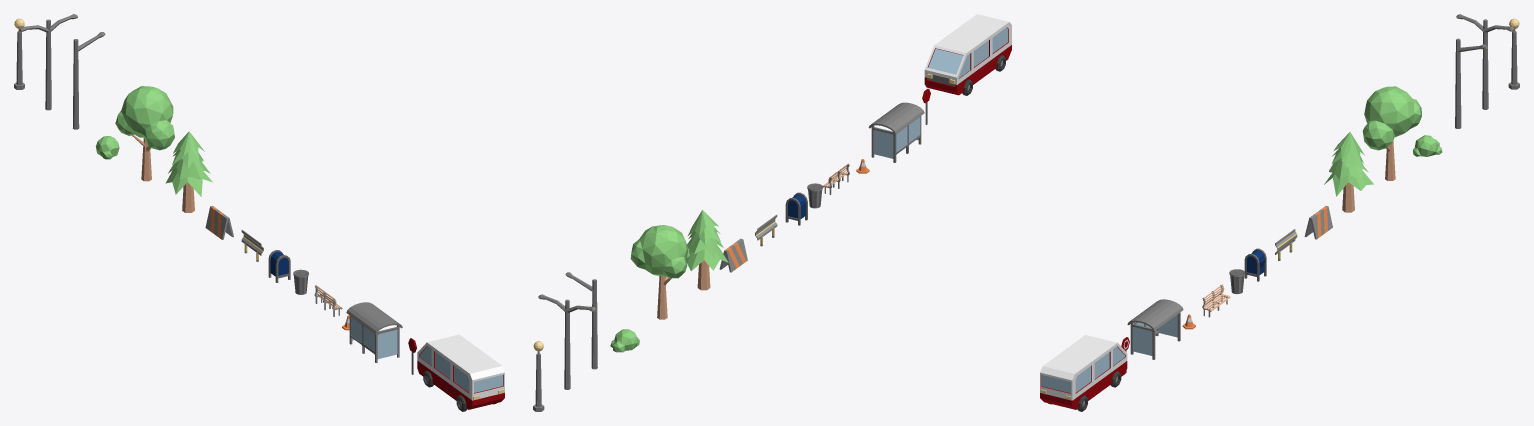
File: city_pack.fbx
The picture shows the model from 3 angles, left to right: view 1: azimuth 30°, elevation 25°; view 2: azimuth 150°, elevation 25°; view 3: azimuth 330°, elevation 25°; orthographic projection.
Visible parts, largest first — view 1: van, tree_2, busstop, tree_1, streetlight_2, streetlight_1, road_side_barrier_2, post_box, streetlight_3; view 2: van, tree_2, busstop, tree_1, streetlight_2, streetlight_1, post_box, road_side_barrier_2, Sphere, streetlight_3; view 3: van, tree_2, busstop, tree_1, streetlight_2, streetlight_1, road_side_barrier_2, post_box, Sphere, streetlight_3, bench.
Part boxes in pixels (box(x1,y1,x2,y2)): van: box(417, 334, 504, 411); tree_2: box(115, 86, 174, 181); busstop: box(346, 302, 402, 362); tree_1: box(165, 131, 212, 212); streetlight_2: box(19, 14, 77, 110); streetlight_1: box(72, 32, 105, 129); road_side_barrier_2: box(205, 206, 233, 239); post_box: box(268, 250, 290, 282); streetlight_3: box(14, 18, 24, 89); van: box(924, 14, 1011, 95); tree_2: box(630, 225, 689, 319); busstop: box(868, 102, 924, 162); tree_1: box(687, 210, 728, 290); streetlight_2: box(538, 294, 596, 389); streetlight_1: box(565, 272, 597, 369); post_box: box(785, 192, 807, 225); road_side_barrier_2: box(719, 238, 747, 272); Sphere: box(610, 329, 639, 352); streetlight_3: box(533, 341, 544, 411); van: box(1040, 335, 1127, 411); tree_2: box(1362, 86, 1421, 180); busstop: box(1127, 299, 1183, 359); tree_1: box(1324, 132, 1373, 212); streetlight_2: box(1456, 14, 1514, 109); streetlight_1: box(1455, 38, 1487, 128); road_side_barrier_2: box(1304, 206, 1332, 239); post_box: box(1244, 248, 1266, 281); Sphere: box(1413, 135, 1442, 156); streetlight_3: box(1508, 18, 1519, 89); bench: box(1202, 284, 1230, 317).
Size of the model in its own units: 929 by 1432 by 13132.
